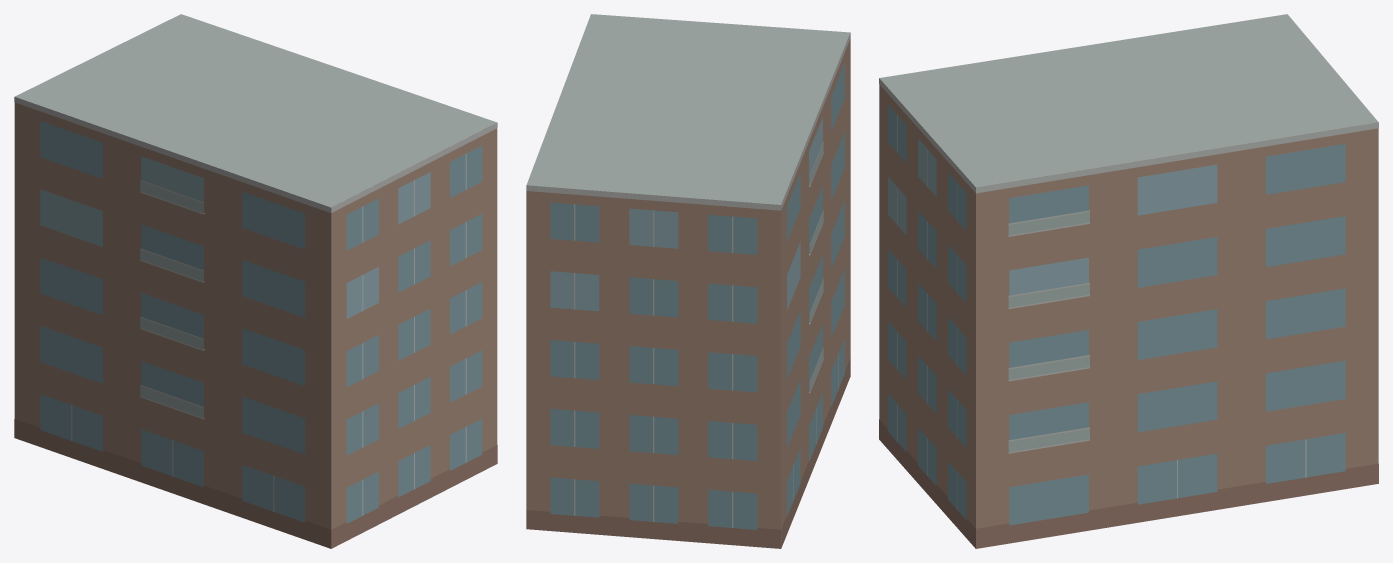
The model's file is survey-upis-33032152.glb.
3 renders of one model, left to right at view 1: azimuth 30°, elevation 25°; view 2: azimuth 150°, elevation 25°; view 3: azimuth 270°, elevation 25°, orthographic. The views are drawn at different scales.
Parts seen in each view (by area): view 1: survey-upis-33032152.tmp; view 2: survey-upis-33032152.tmp; view 3: survey-upis-33032152.tmp.
Part boxes in pixels (x1,y1,x2,y2): survey-upis-33032152.tmp: [14, 14, 497, 548]; survey-upis-33032152.tmp: [526, 14, 850, 548]; survey-upis-33032152.tmp: [879, 14, 1378, 548].
Bounding box in the file's own units: 15.35 × 14.9 × 18.68.
